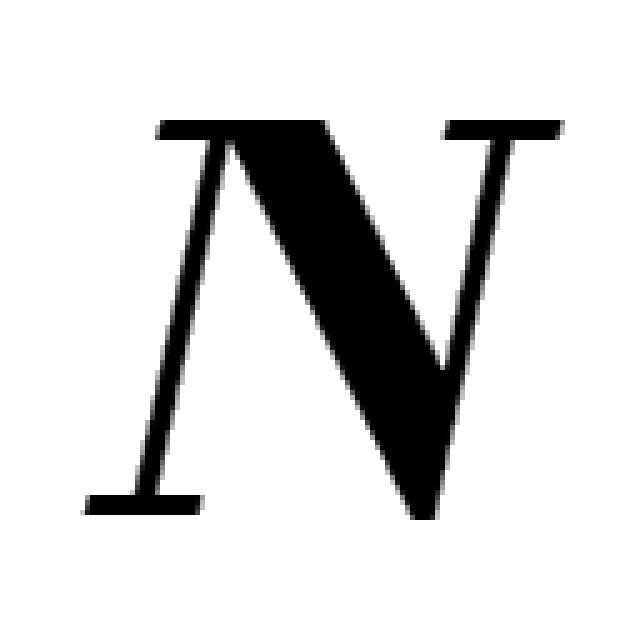N: (75, 100, 570, 530)
